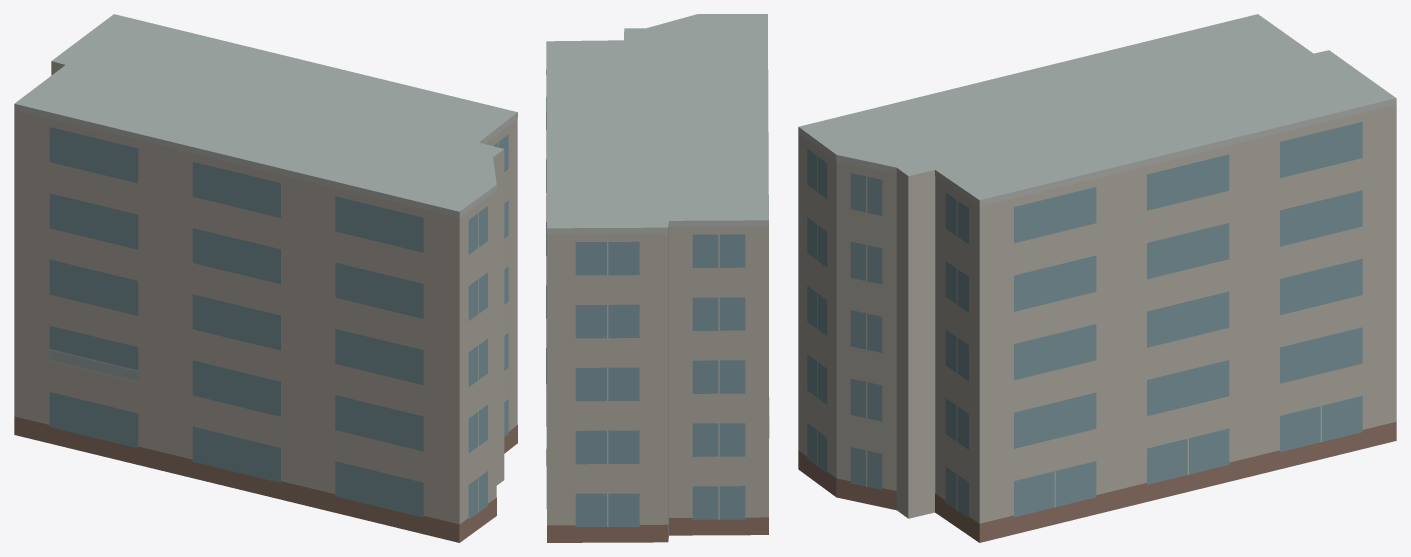
The model's file is survey-upis-32711787.glb.
The picture shows the model from 3 angles, left to right: view 1: azimuth 30°, elevation 25°; view 2: azimuth 150°, elevation 25°; view 3: azimuth 270°, elevation 25°; orthographic projection. The views are drawn at different scales.
Visible parts, largest first — view 1: survey-upis-32711787.tmp; view 2: survey-upis-32711787.tmp; view 3: survey-upis-32711787.tmp.
Boxes of the visible parts, box(x1,y1,x2,y2) form: survey-upis-32711787.tmp: box(14, 14, 517, 542); survey-upis-32711787.tmp: box(546, 14, 769, 542); survey-upis-32711787.tmp: box(798, 14, 1396, 542).
Bounding box in the file's own units: 15.23 × 13.05 × 20.66.
